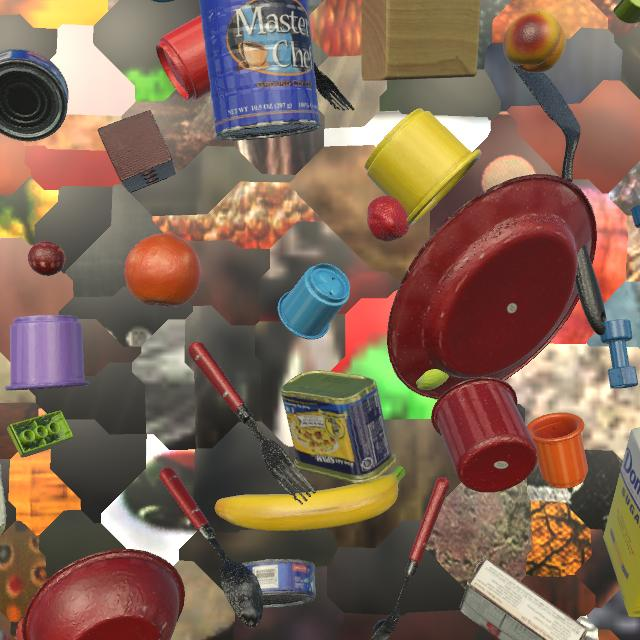ycb_002_master_chef_can: (199, 0, 321, 141)
ycb_004_sugar_box: (603, 427, 640, 617)
ycb_007_tuna_fish_can: (0, 49, 69, 142), (240, 559, 316, 608)
ycb_008_pudding_box: (459, 556, 588, 640), (0, 627, 10, 640)
ycb_010_potted_meat_can: (281, 370, 396, 484)
ycb_011_banana: (215, 466, 406, 531)
ycb_012_strawberry: (367, 196, 410, 242)
ycb_015_peach: (503, 10, 566, 73)
ycb_017_orange: (125, 233, 201, 307)
